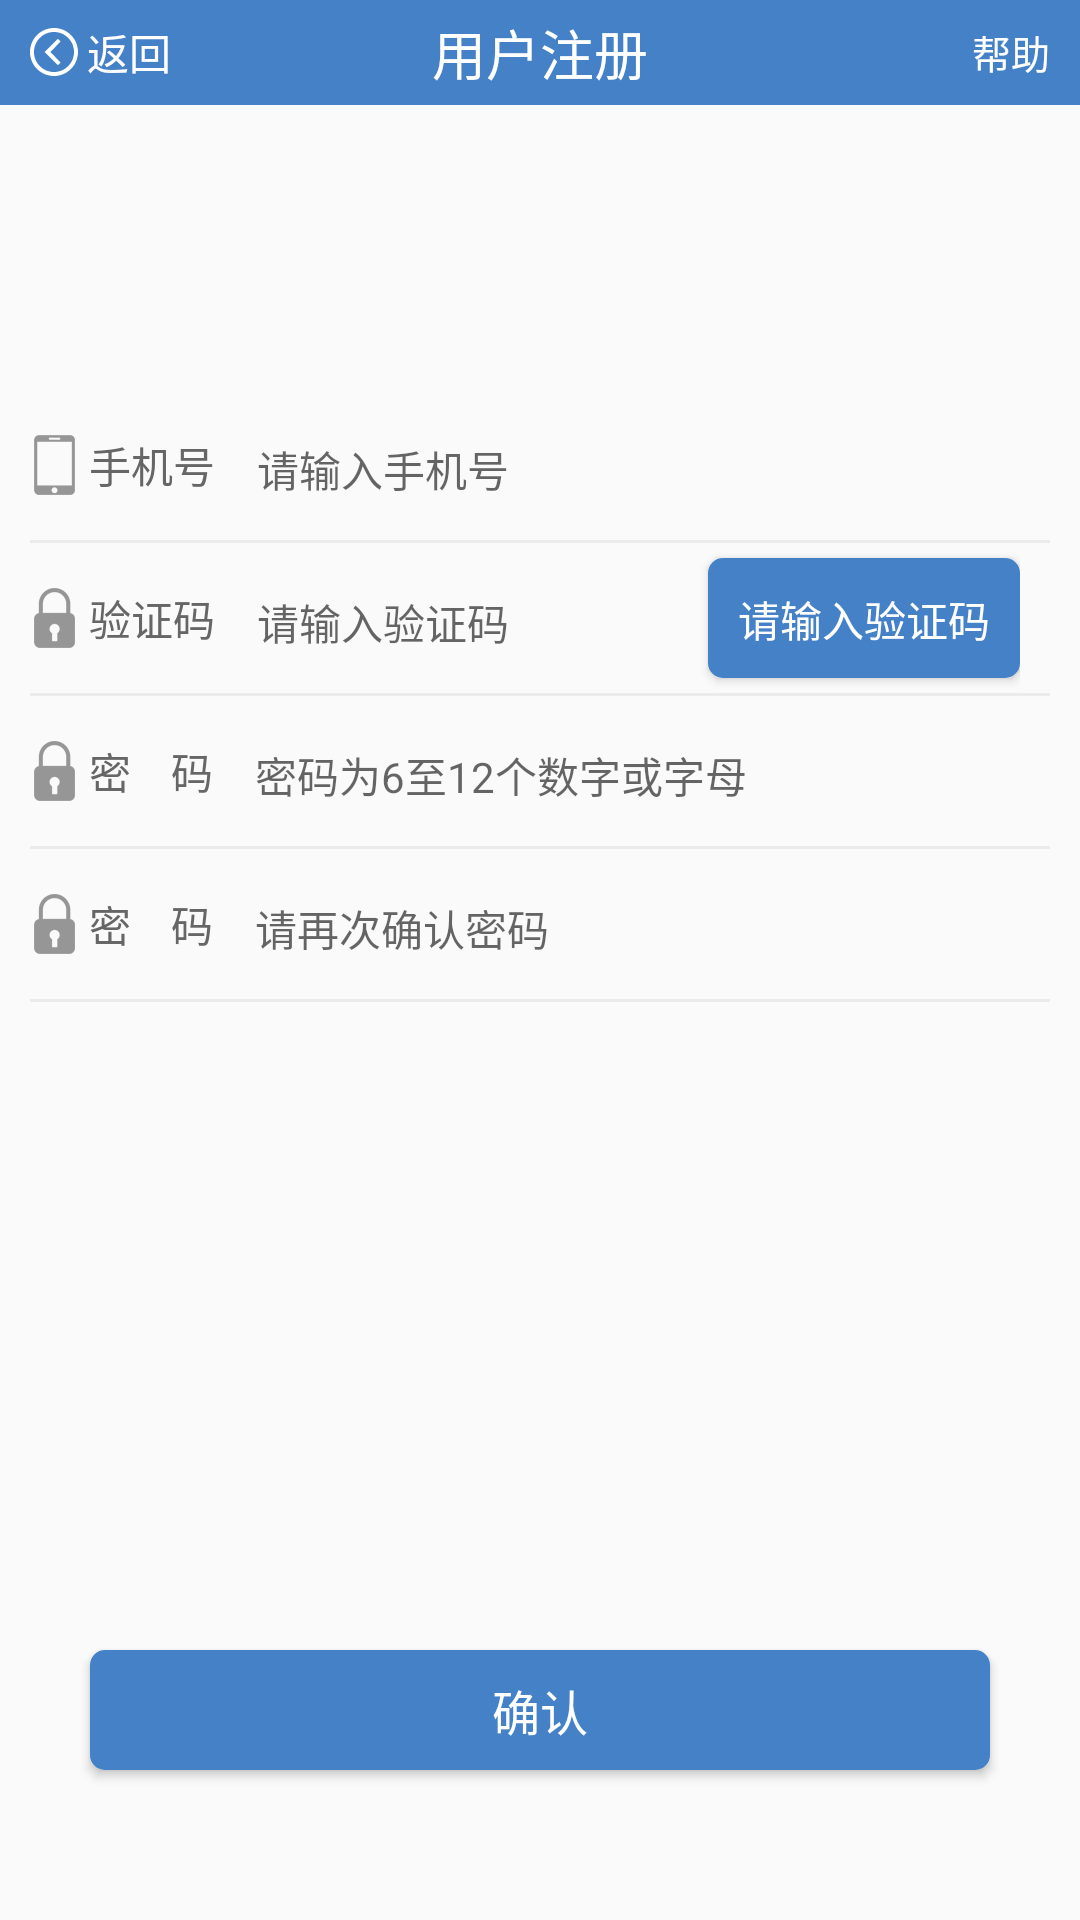

Icon bounding boxes for this 1080*1920 phone screenshot, format (x1, y1, x2, y2):
phone: (34, 435, 75, 495)
psd locked: (34, 588, 75, 648), (34, 741, 75, 801), (34, 894, 75, 954)
